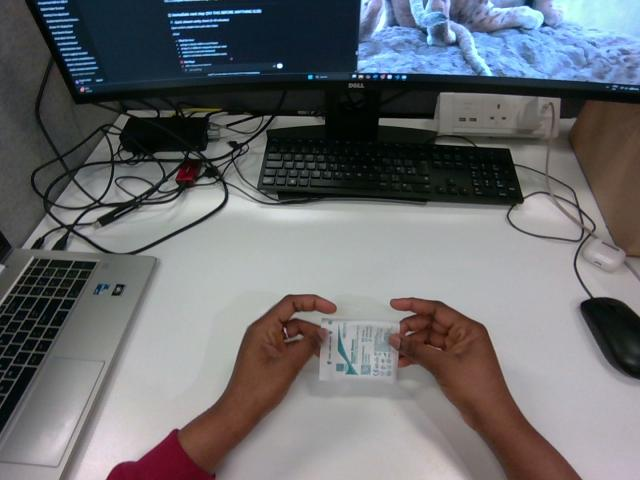gauze: (319, 318, 398, 382)
